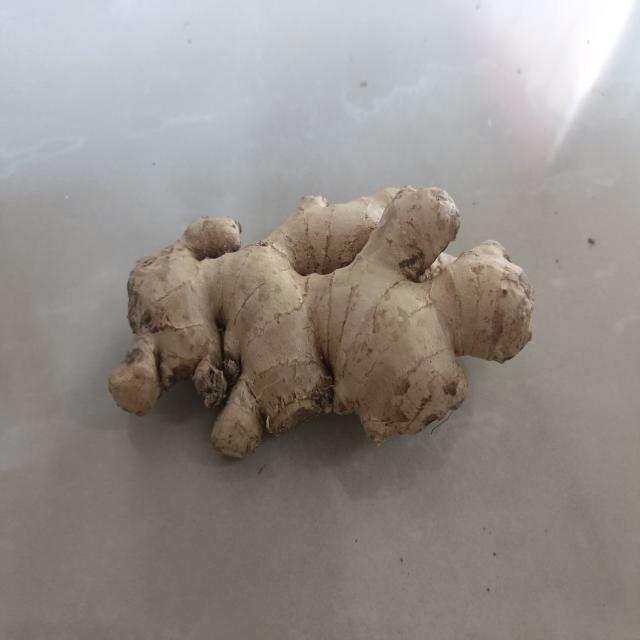ginger: (94, 173, 543, 472)
